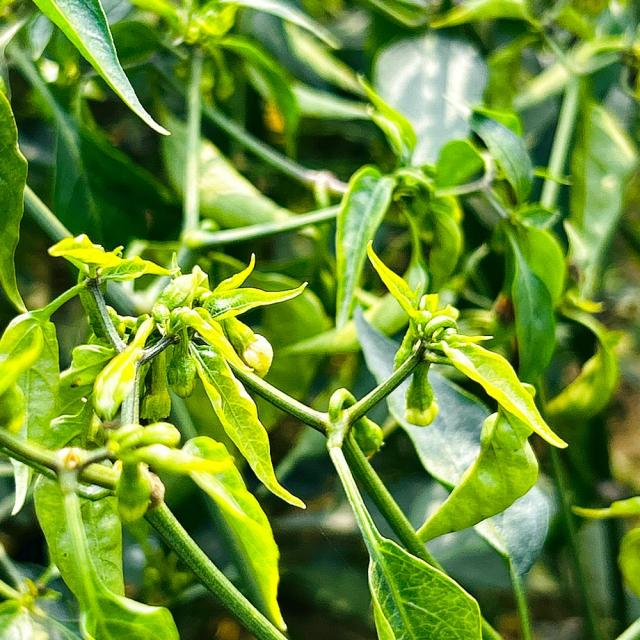Chilli_Leaf_Curl: (2, 0, 636, 638), (46, 235, 312, 510), (360, 239, 569, 450), (31, 0, 172, 137), (412, 406, 540, 544), (332, 163, 396, 332)
